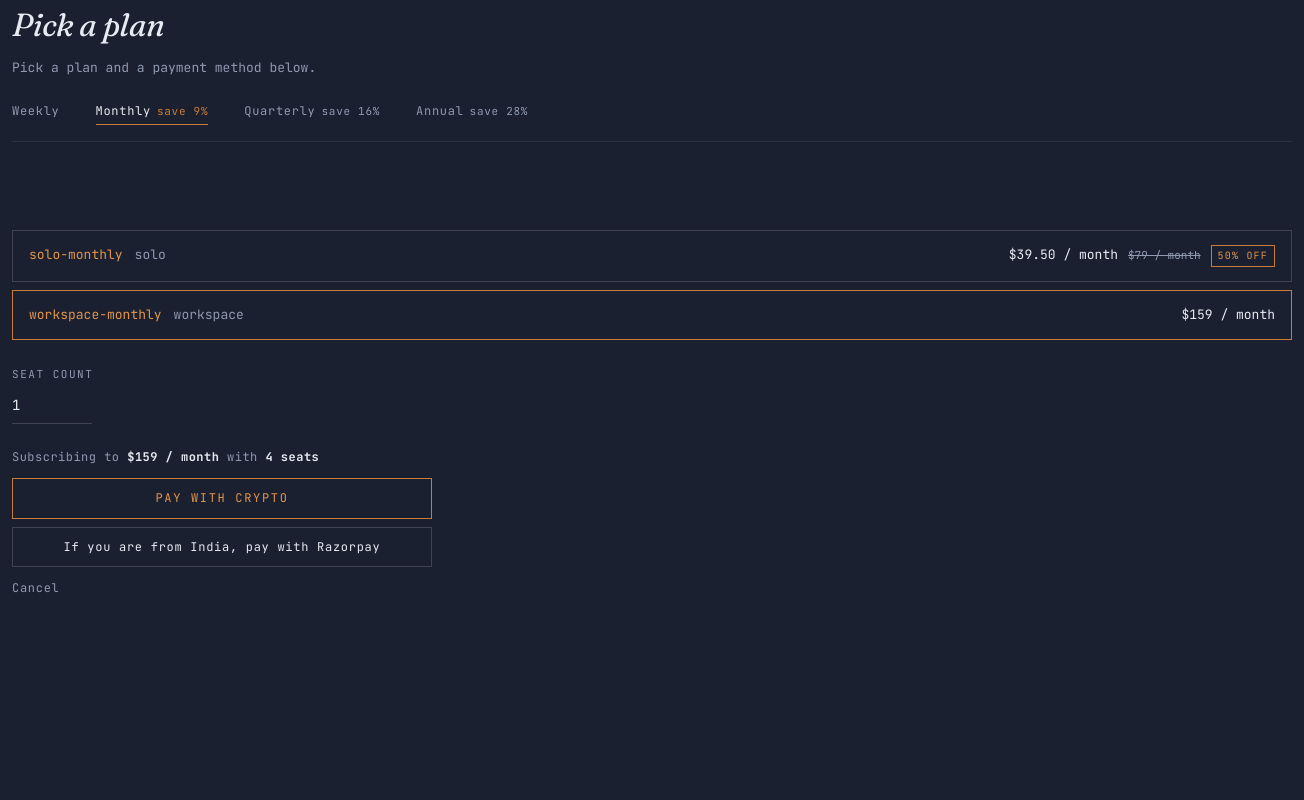
BillingUpgrade › alt-payment buttons (NOWPayments + Razorpay) › shows the workspace coming-soon copy when razorpay is clicked on a workspace SKU
Click the button with test id "pay-with-razorpay-button" at {"x": 222, "y": 547}, box [12,527,432,568]
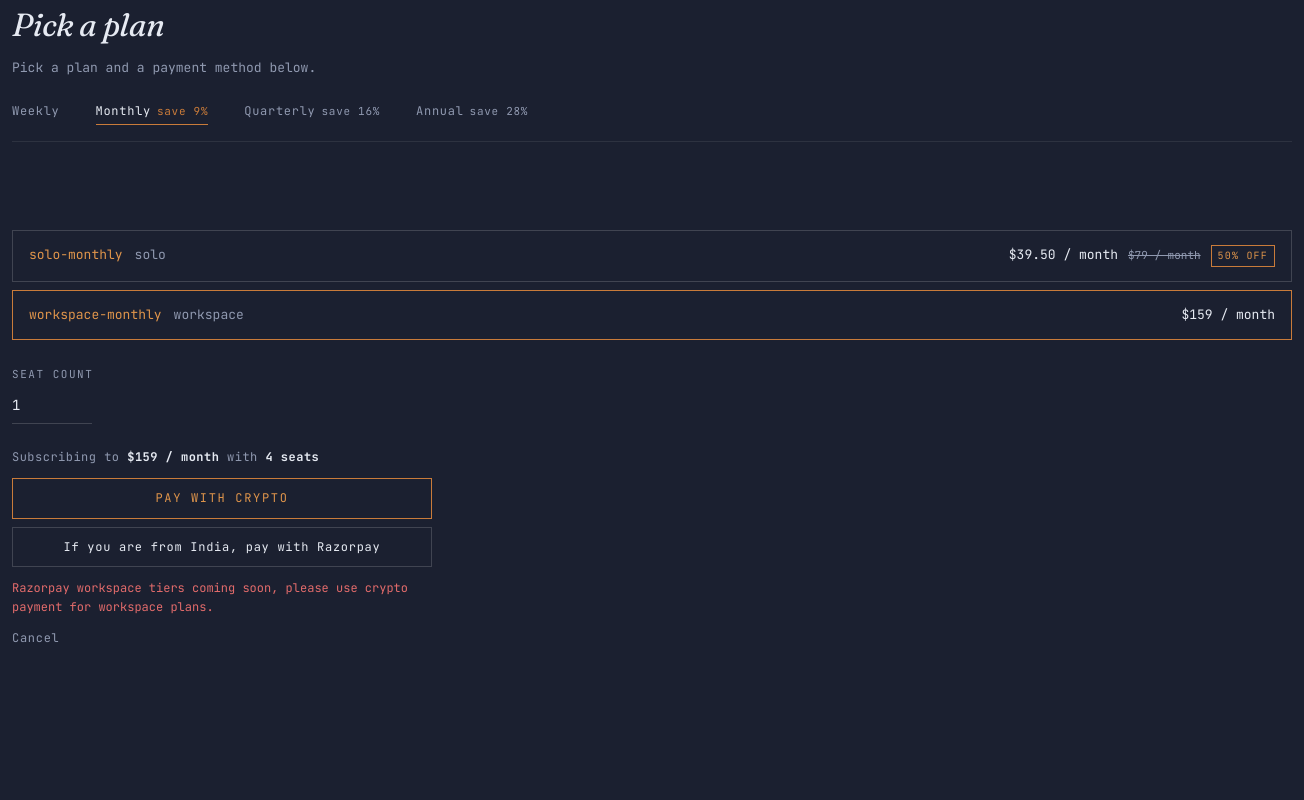
expect the text with test id "alt-payment-error" shows "workspace tiers coming soon": met, box [12,580,408,615]
expect the text with test id "alt-payment-error" shows "use crypto payment for workspace plans": met, box [12,580,408,615]
